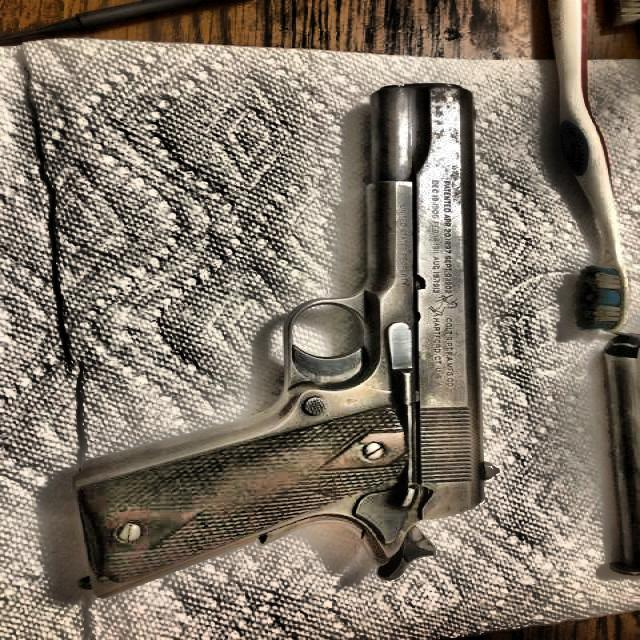Colt m1911: (71, 81, 496, 598)
